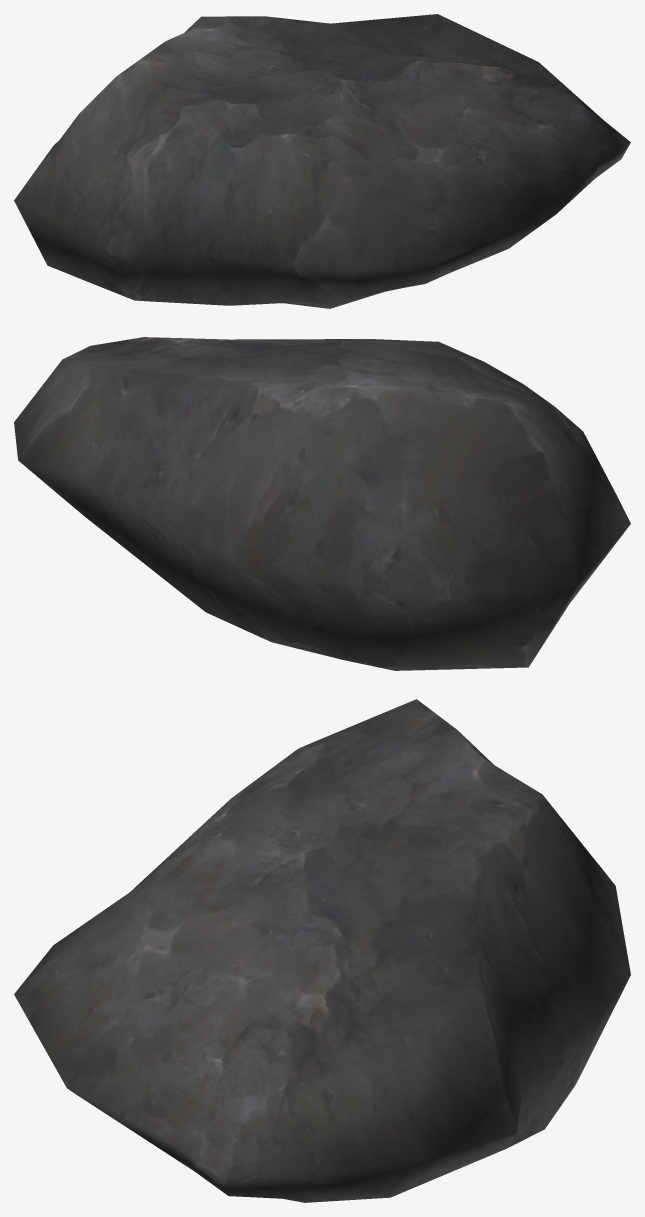
The model's file is cragrocksmall_b03.obj.
The picture shows the model from 3 angles, top to bottom: view 1: azimuth 30°, elevation 25°; view 2: azimuth 150°, elevation 25°; view 3: azimuth 270°, elevation 25°; orthographic projection. The views are drawn at different scales.
Parts seen in each view (by area): view 1: world/expansion06/doodads/suramar/7sr_cragrocksmall_b03.m2_Geose; view 2: world/expansion06/doodads/suramar/7sr_cragrocksmall_b03.m2_Geose; view 3: world/expansion06/doodads/suramar/7sr_cragrocksmall_b03.m2_Geose.
Part boxes in pixels (<box>): world/expansion06/doodads/suramar/7sr_cragrocksmall_b03.m2_Geose: <box>14,14,630,308</box>; world/expansion06/doodads/suramar/7sr_cragrocksmall_b03.m2_Geose: <box>14,337,630,670</box>; world/expansion06/doodads/suramar/7sr_cragrocksmall_b03.m2_Geose: <box>14,699,630,1202</box>.
Bounding box in the file's own units: 7.87 × 3.18 × 5.69.
1 material, 1 textured.
